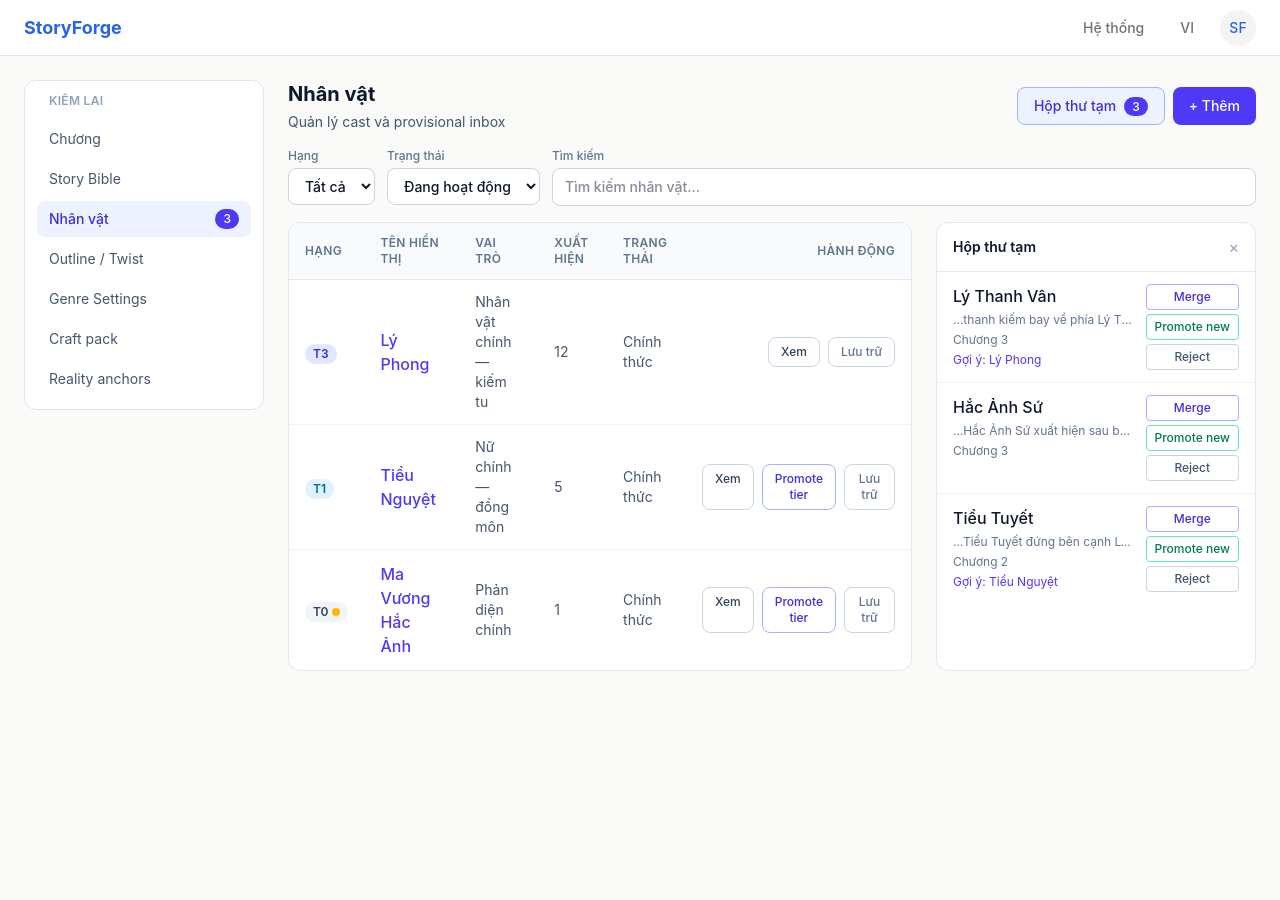
CharactersPage › filters characters by search
Expected: the link "Lý Phong" is shown, [380,330,430,374]
Type "Tiểu" into the search field named "Tìm kiếm nhân vật" at (904, 187), box [552,168,1256,206]
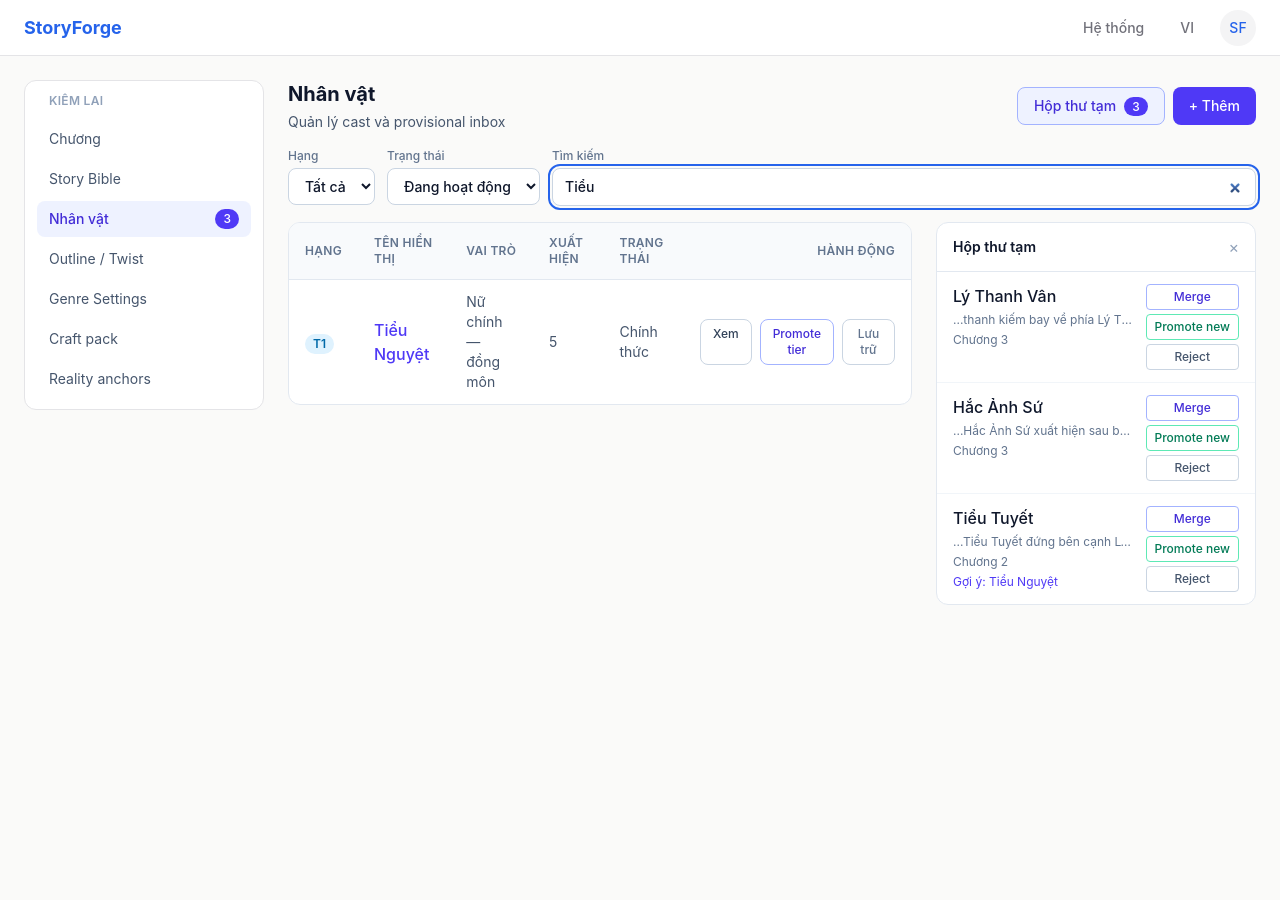
Expected: the link "Tiểu Nguyệt" is shown, [374,320,429,364]
Expected: the link "Ma Vương Hắc Ảnh" is gone
